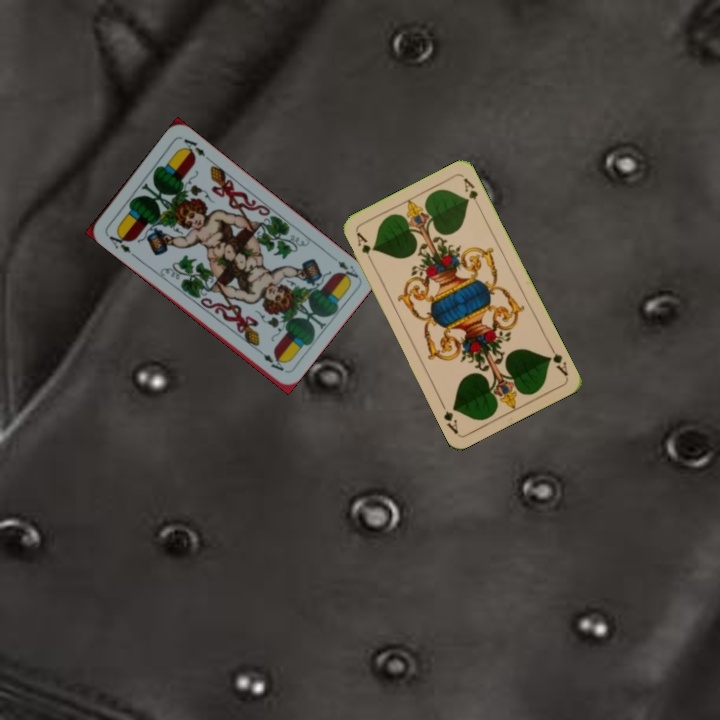EA: (102, 227, 134, 256), (334, 257, 361, 283)
GA: (544, 341, 570, 379), (352, 228, 376, 266)
